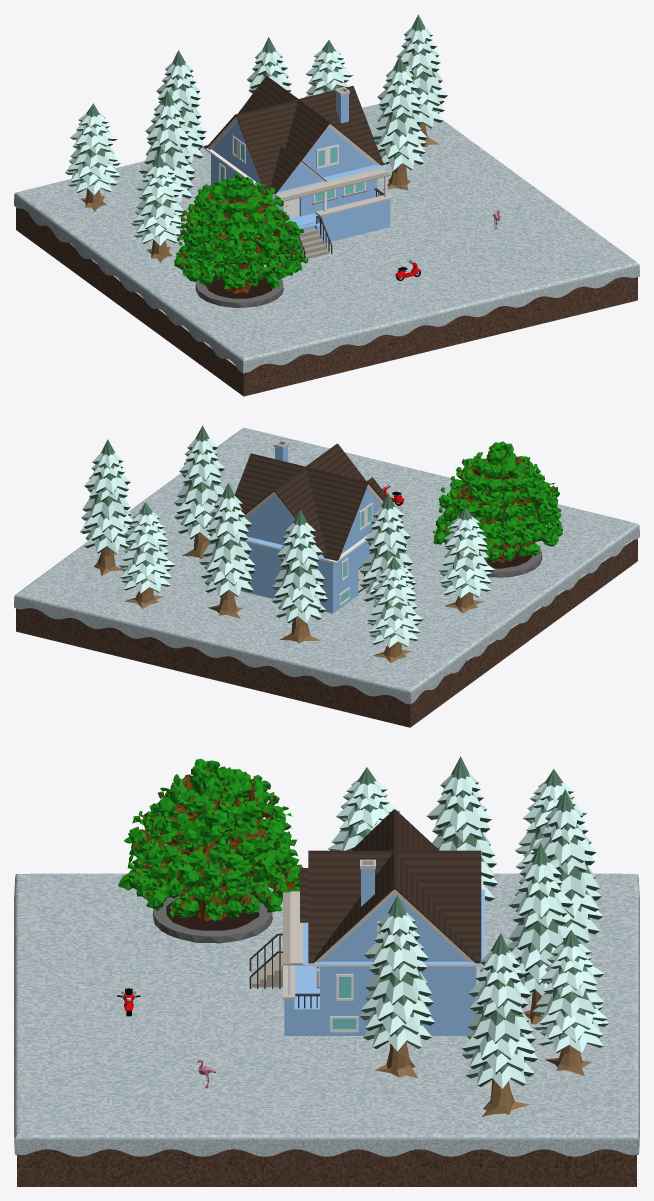
3 renders of one model, top to bottom at view 1: azimuth 30°, elevation 25°; view 2: azimuth 150°, elevation 25°; view 3: azimuth 270°, elevation 25°, orthographic. The views are drawn at different scales.
Visible parts, largest first — view 1: Cube.003, Cube.1594, OBJRANDOM_CEIBA; view 2: Cube.003, Cube.1594, OBJRANDOM_CEIBA; view 3: Cube.003, Cube.1594, OBJRANDOM_CEIBA.
Boxes of the visible parts, x1=… form: Cube.003: x1=14, y1=14, x2=639, y2=396; Cube.1594: x1=202, y1=76, x2=393, y2=258; OBJRANDOM_CEIBA: x1=174, y1=173, x2=308, y2=307; Cube.003: x1=14, y1=425, x2=639, y2=727; Cube.1594: x1=235, y1=440, x2=405, y2=613; OBJRANDOM_CEIBA: x1=432, y1=441, x2=562, y2=577; Cube.003: x1=14, y1=756, x2=639, y2=1186; Cube.1594: x1=249, y1=809, x2=484, y2=1035; OBJRANDOM_CEIBA: x1=118, y1=758, x2=302, y2=943.
Size of the model in its own units: 4040 by 1700 by 4040.
33 materials, 3 textured.
